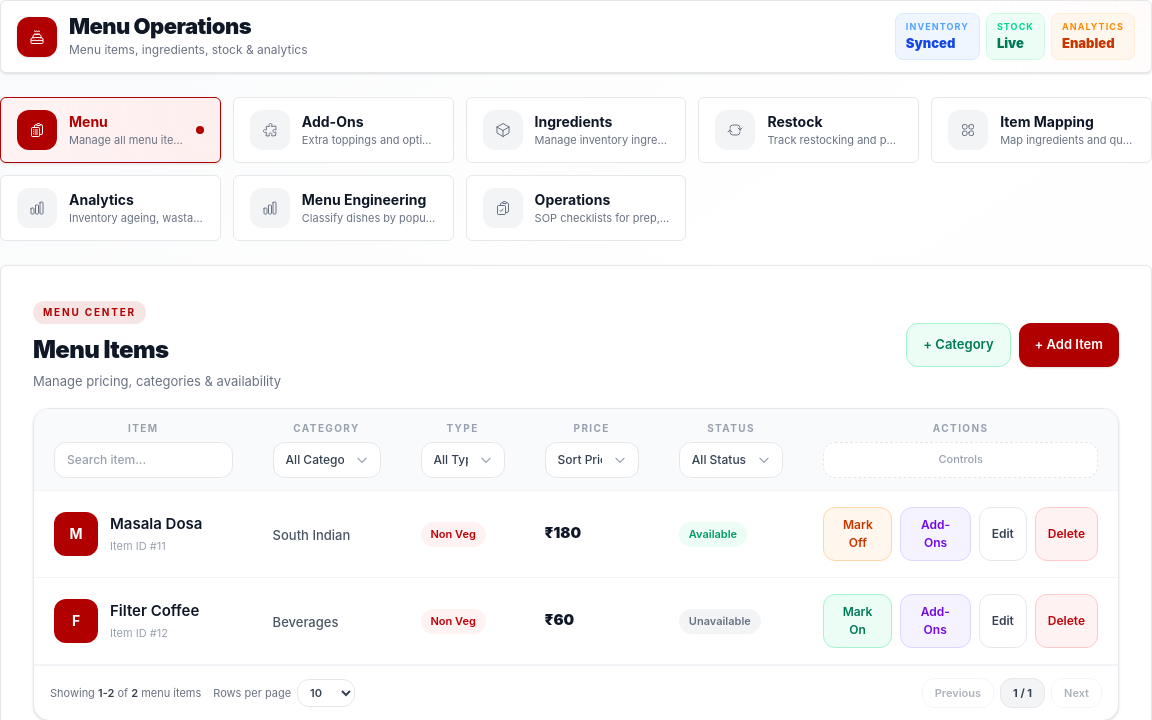
Menu Management — characterisation › renders the operations tab's own content
Expected: the heading "Menu Operations" is shown, [69,12,251,38]
Click the button "Operations". click: (576, 208)
box: [466,175,686,241]
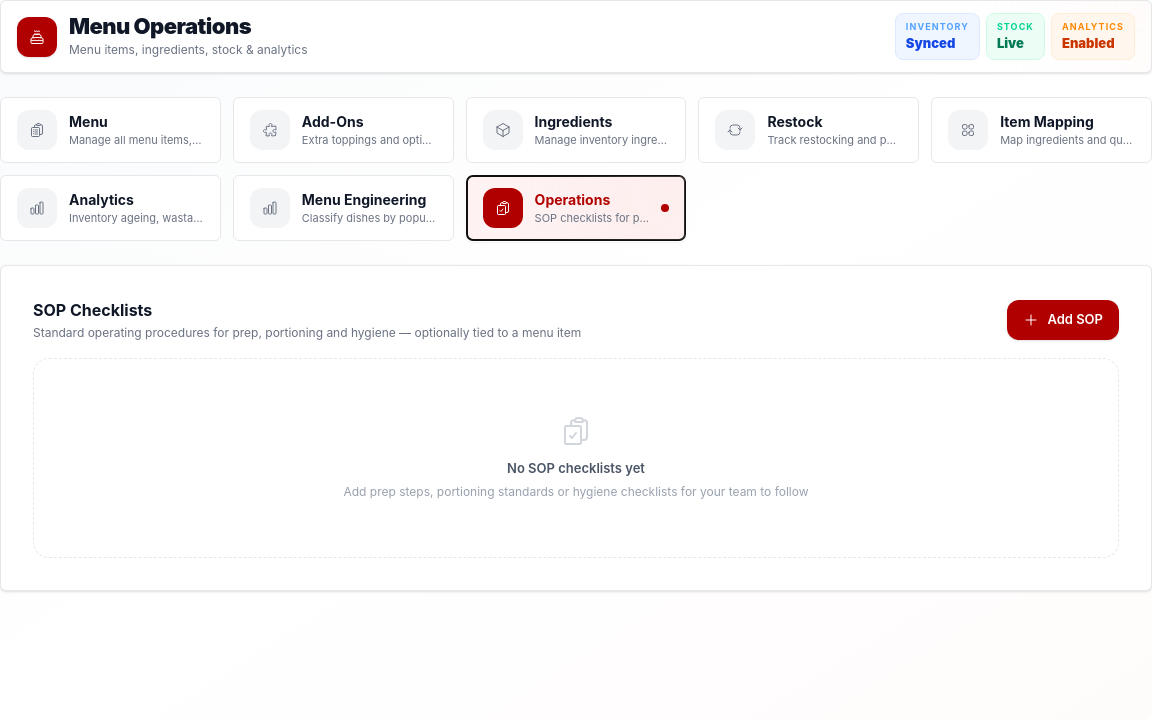
Expected: the heading "SOP Checklists" is shown, [33,300,152,320]
